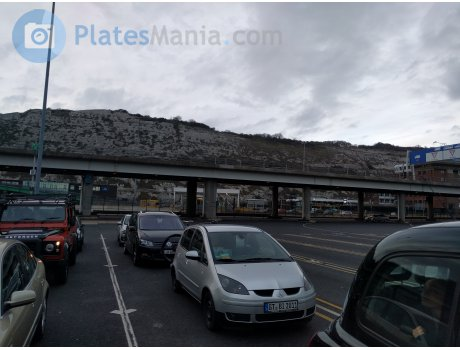License Plates: (265, 298, 303, 310)
